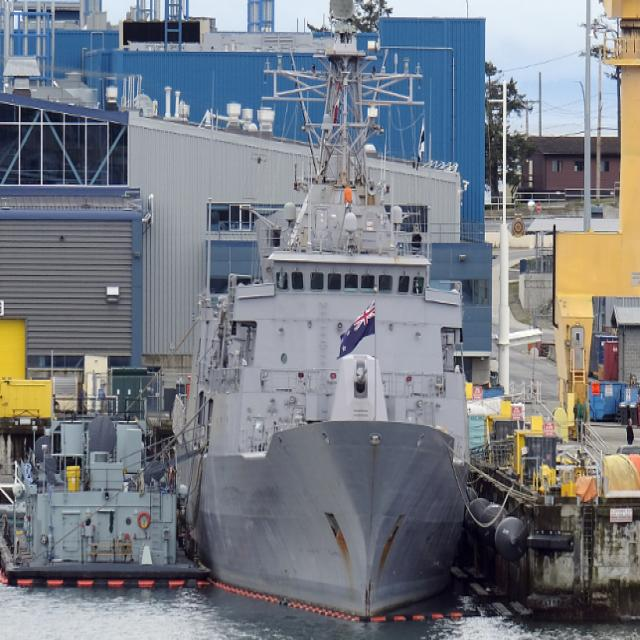Fragata: (184, 1, 478, 626)
